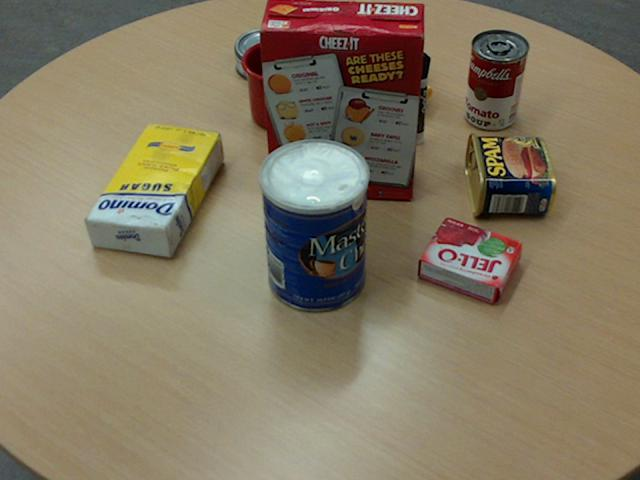cracker_box: (257, 0, 424, 198)
gelatin_box: (417, 216, 524, 303)
large_marker: (408, 52, 430, 143)
master_chef_can: (258, 138, 368, 312)
mug: (240, 38, 321, 130)
mustard_bottle: (306, 9, 432, 100)
potted_meat_can: (463, 132, 554, 216)
sugar_box: (83, 122, 221, 256)
tomato_soup_can: (464, 29, 528, 129)
tuna_fish_can: (233, 27, 297, 82)
